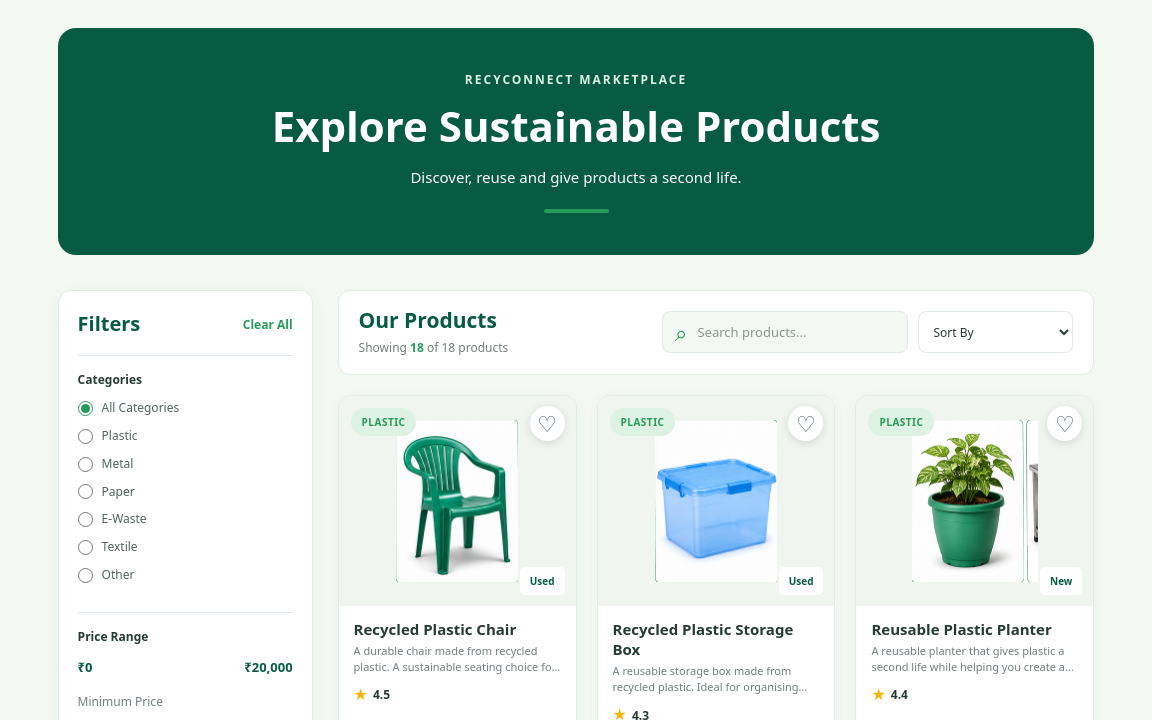
Test: Products Component › shows an empty message when search has no matching products
The width and height of the screenshot is (1152, 720).
Type "NoMatchingProduct12345" into the search field labelled "Search products". click: (795, 332)
box: [695,312,895,352]
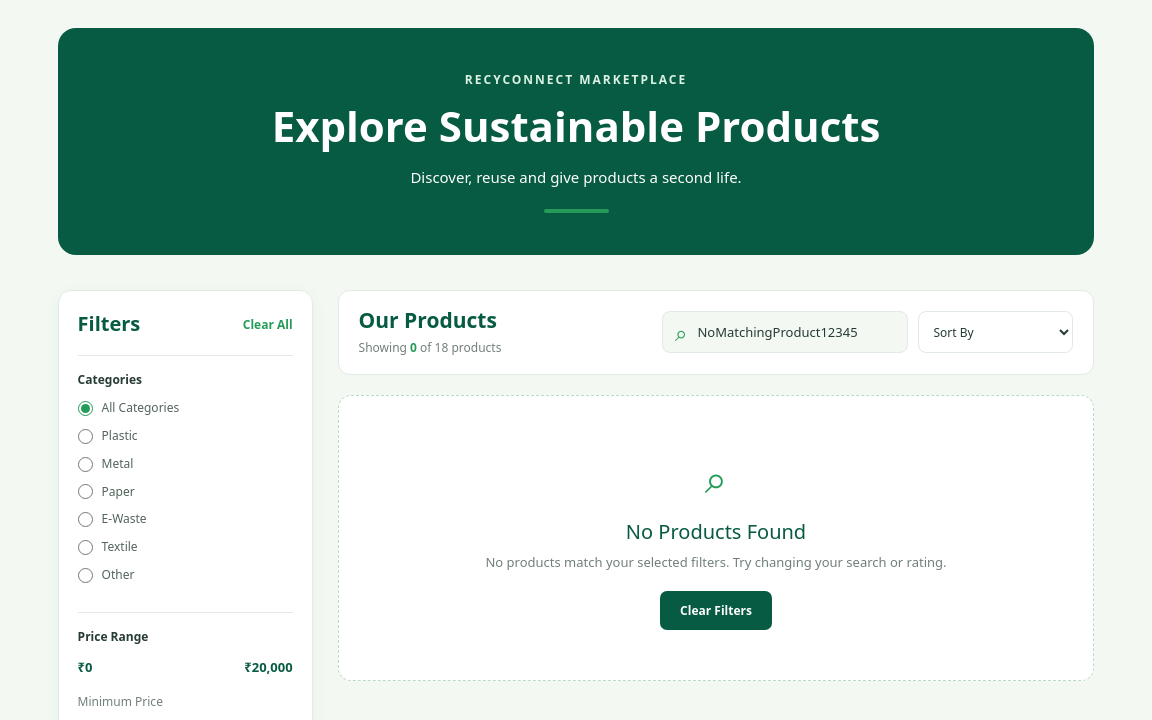
Expected: the element with class "no-products" is shown, [338,395,1094,681]
Expected: the element with class "no-products" shows "No Products Found", [626,518,806,545]
